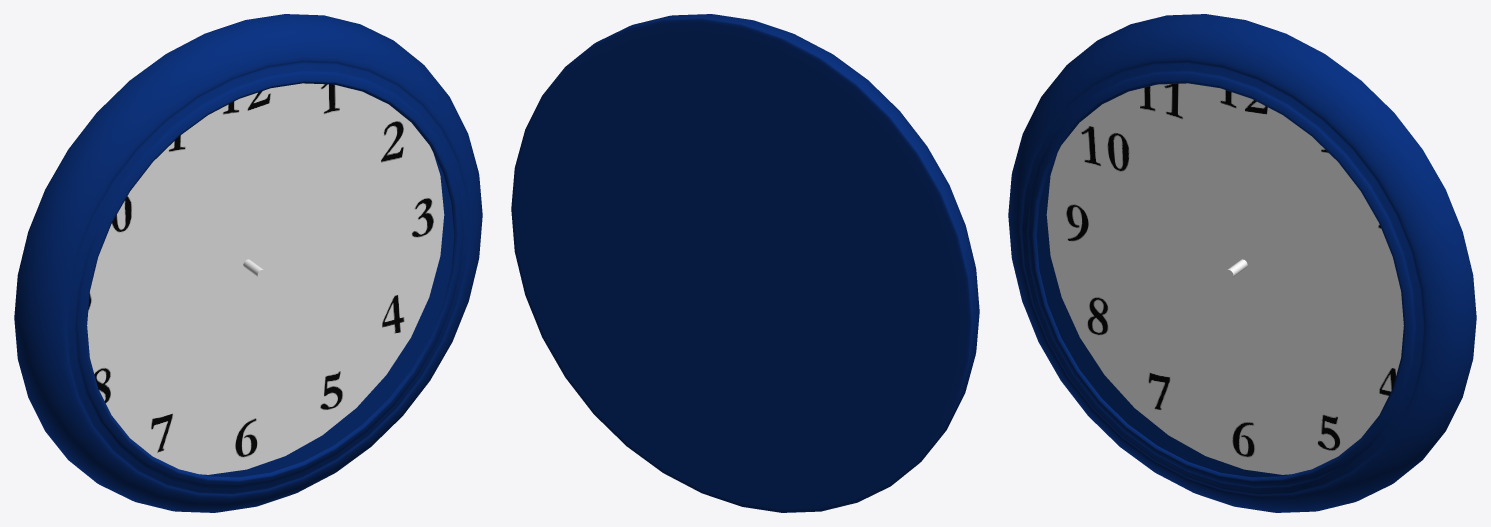
File: reloj1.obj
3 views of the same model, side by side, from view 1: azimuth 30°, elevation 25°; view 2: azimuth 150°, elevation 25°; view 3: azimuth 330°, elevation 25° (orthographic).
Visible parts, largest first — view 1: polySurface4 polySurface2 reloj_azul:Mesh; view 2: polySurface4 polySurface2 reloj_azul:Mesh; view 3: polySurface4 polySurface2 reloj_azul:Mesh.
Boxes of the visible parts, x1,y1,x2,y2 form: polySurface4 polySurface2 reloj_azul:Mesh: (14,14,482,512); polySurface4 polySurface2 reloj_azul:Mesh: (511,14,979,512); polySurface4 polySurface2 reloj_azul:Mesh: (1008,14,1476,512).
Bounding box in the file's own units: 3.56 × 3.56 × 0.3681.
3 materials, 3 textured.
